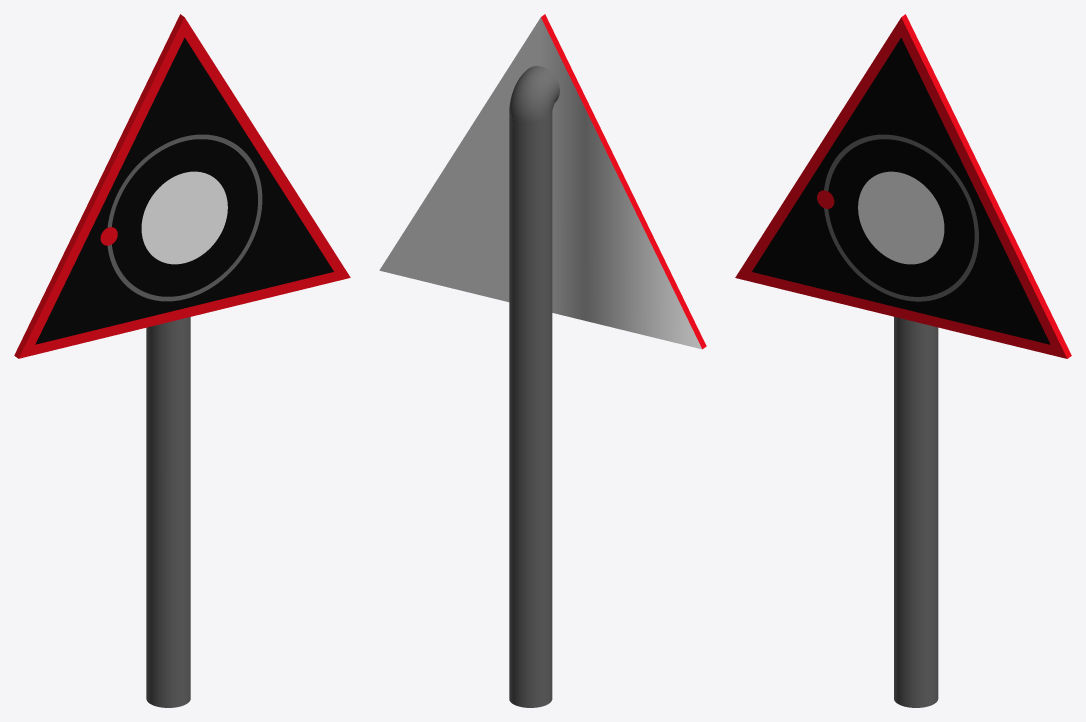
Rendered from sign_danger_planetarySystem.dae.
The picture shows the model from 3 angles, left to right: view 1: azimuth 30°, elevation 25°; view 2: azimuth 150°, elevation 25°; view 3: azimuth 330°, elevation 25°; orthographic projection. The views are drawn at different scales.
Visible parts, largest first — view 1: Component_2 (×6); view 2: Component_2 (×3); view 3: Component_2 (×6).
Part boxes in pixels (x1,y1,x2,y2): Component_2 (×6): (14,14,350,707); Component_2 (×3): (379,14,706,707); Component_2 (×6): (735,14,1071,707).
Bounding box in the file's own units: 341 × 47.22 × 679.
